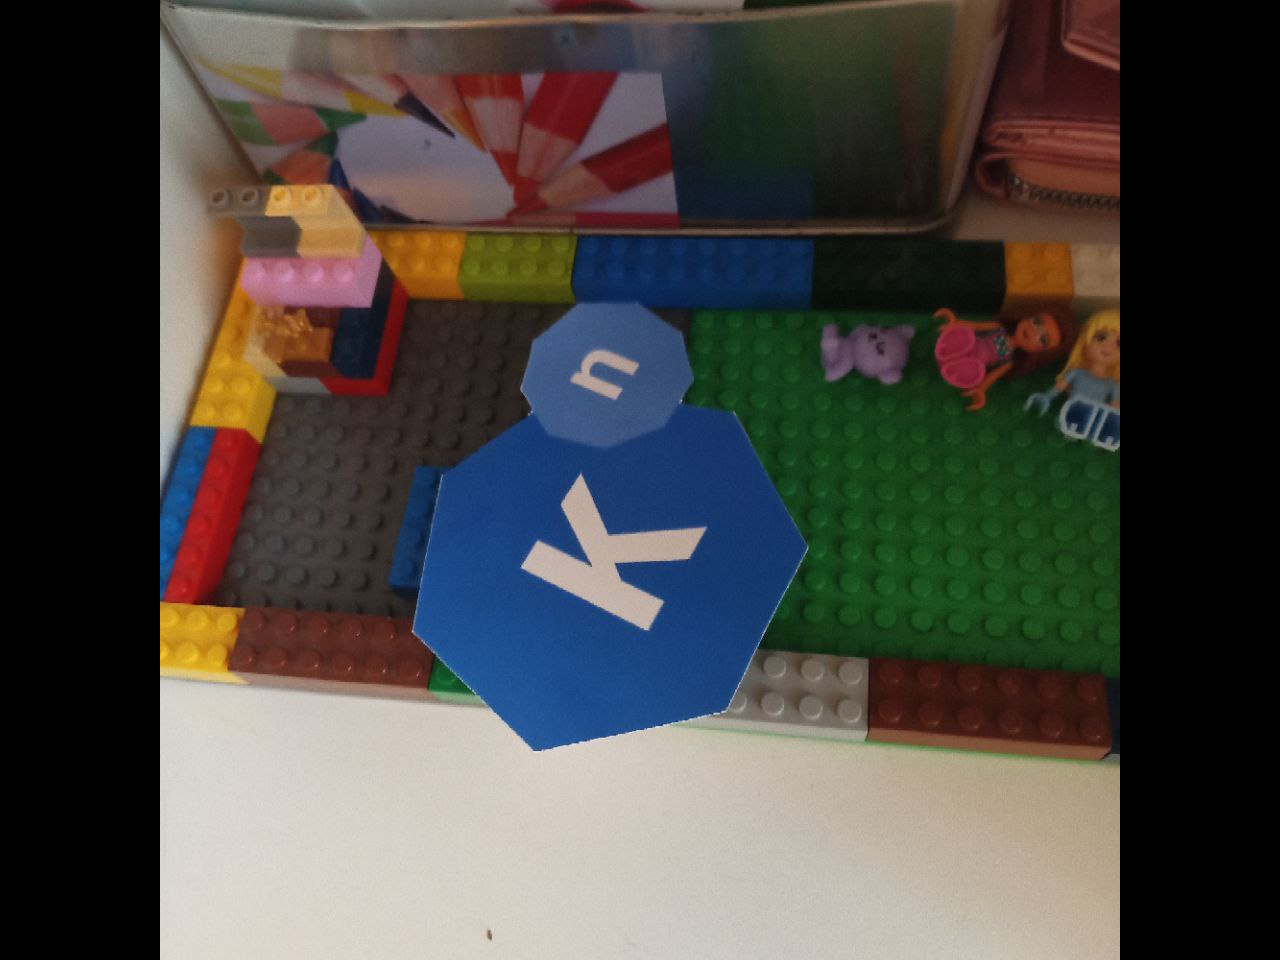knative: (409, 301, 810, 755)
